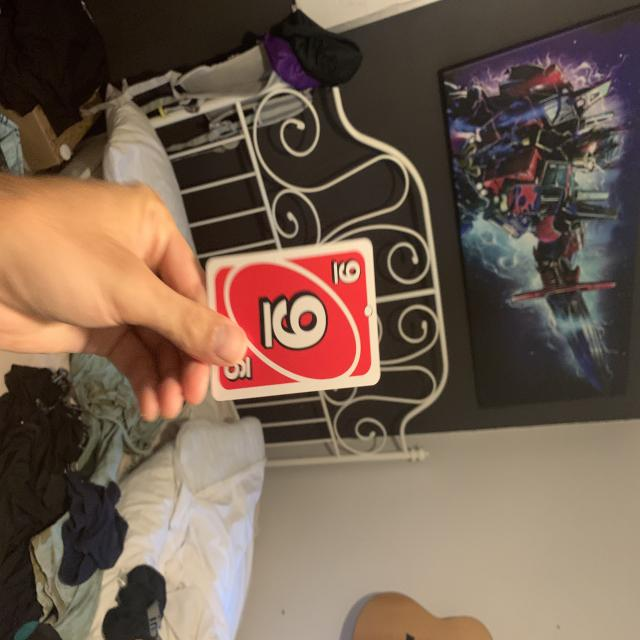lred-9: (326, 256, 363, 288)
